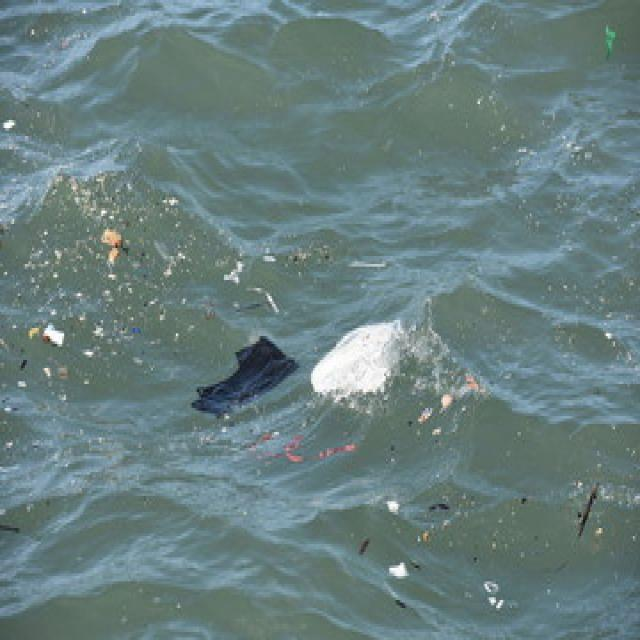Trash: (312, 322, 411, 412), (190, 334, 299, 410), (418, 375, 480, 432), (267, 439, 373, 466), (41, 319, 70, 351), (95, 219, 128, 245), (97, 246, 128, 268), (385, 554, 409, 581), (483, 572, 498, 596), (400, 591, 401, 596)
